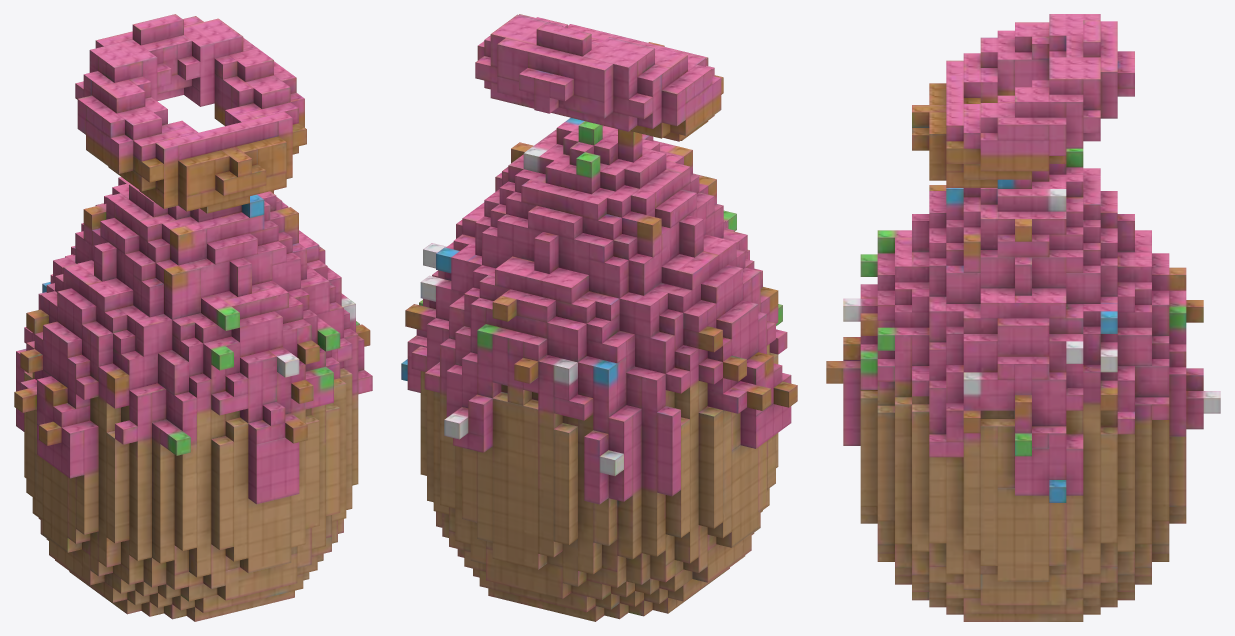
File: donut.glb
The picture shows the model from 3 angles, left to right: view 1: azimuth 30°, elevation 25°; view 2: azimuth 150°, elevation 25°; view 3: azimuth 270°, elevation 25°; orthographic projection. The views are drawn at different scales.
Parts seen in each view (by area): view 1: Body.001; view 2: Body.001; view 3: Body.001.
Boxes of the visible parts, bbox=[...] form: Body.001: bbox=[14, 14, 372, 621]; Body.001: bbox=[401, 14, 797, 621]; Body.001: bbox=[826, 14, 1220, 621].
Bounding box in the file's own units: 3.45 × 5.25 × 3.45.
1 material, 1 textured.
